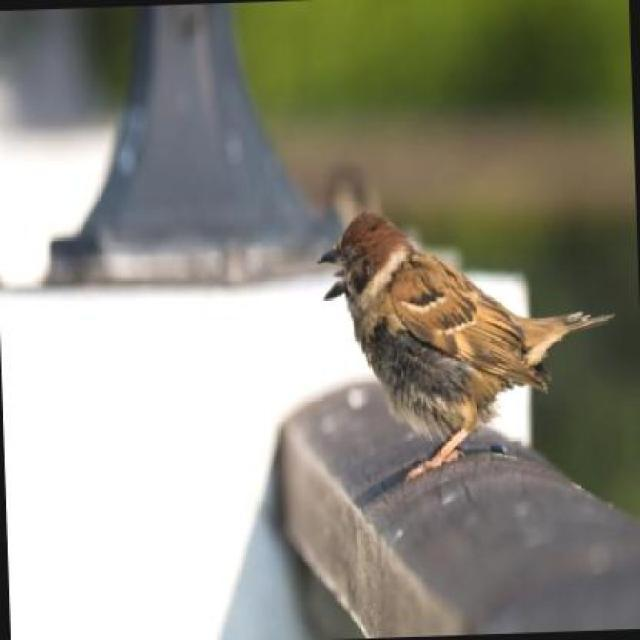Bird: (318, 209, 627, 477)
